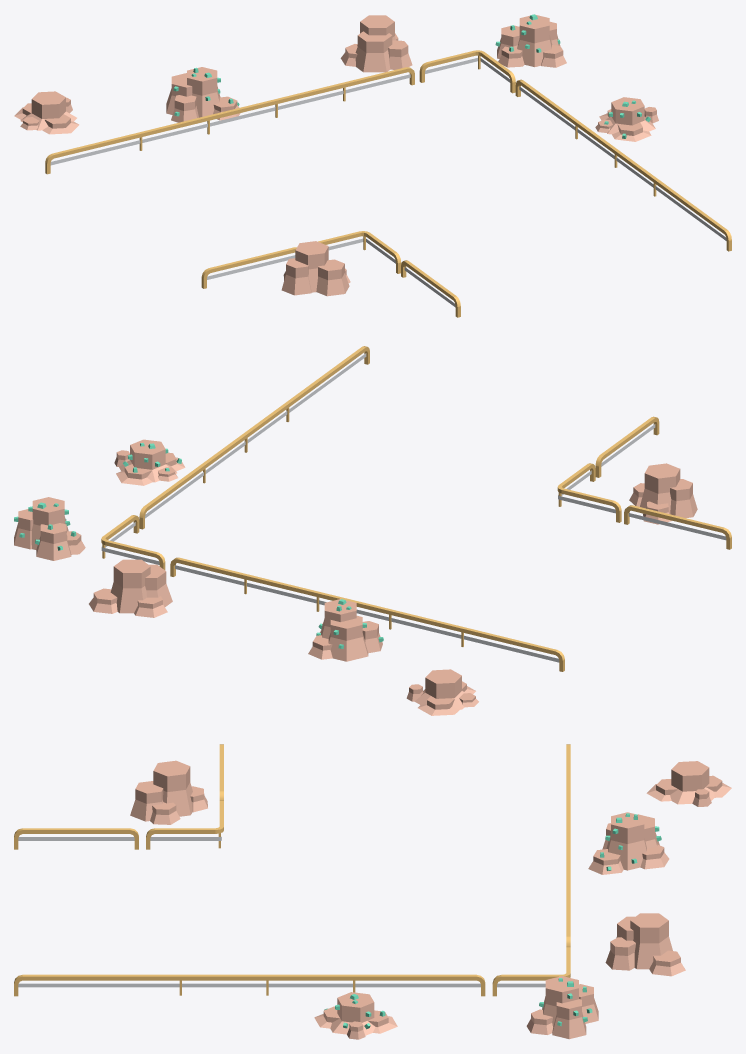
File: road_left.glb
3 renders of one model, top to bottom at view 1: azimuth 30°, elevation 25°; view 2: azimuth 150°, elevation 25°; view 3: azimuth 270°, elevation 25°, orthographic. The views are drawn at different scales.
Parts seen in each view (by area): view 1: road_left; view 2: road_left; view 3: road_left.
Boxes of the visible parts, x1,y1,x2,y2 form: road_left: (14, 14, 731, 317); road_left: (14, 346, 731, 715); road_left: (14, 744, 731, 1039).
Bounding box in the file's own units: 7.61 × 0.55 × 8.28.
